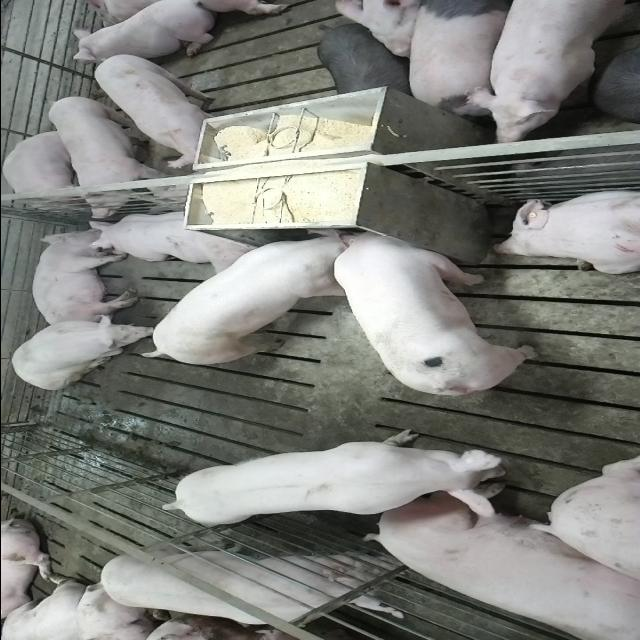Feeding: (332, 221, 538, 391), (136, 230, 360, 368)
Lateral_lying: (362, 482, 636, 637), (29, 229, 139, 327)
Sitting: (8, 314, 156, 389)
Standing: (166, 432, 524, 531), (92, 546, 418, 640), (456, 2, 640, 145), (92, 52, 235, 167), (44, 96, 168, 218), (400, 3, 512, 114), (313, 22, 412, 98)
Sternal_lying: (490, 186, 640, 273), (85, 207, 260, 269), (70, 2, 222, 61), (2, 129, 85, 205)
